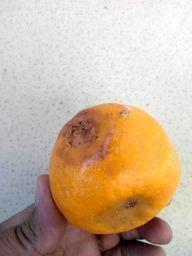Unripe: (49, 104, 180, 234)
